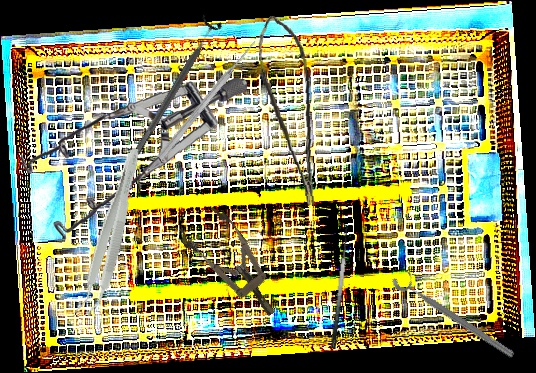Fixation Ring: (125, 12, 225, 160), (389, 264, 522, 363)
Micro Scissor: (253, 13, 322, 209)
Pusher: (156, 38, 259, 162)
Spatula Surgical: (319, 221, 355, 350)
Speculum: (16, 67, 248, 248), (175, 201, 292, 331)
Tissue Forceps: (72, 143, 147, 321)
